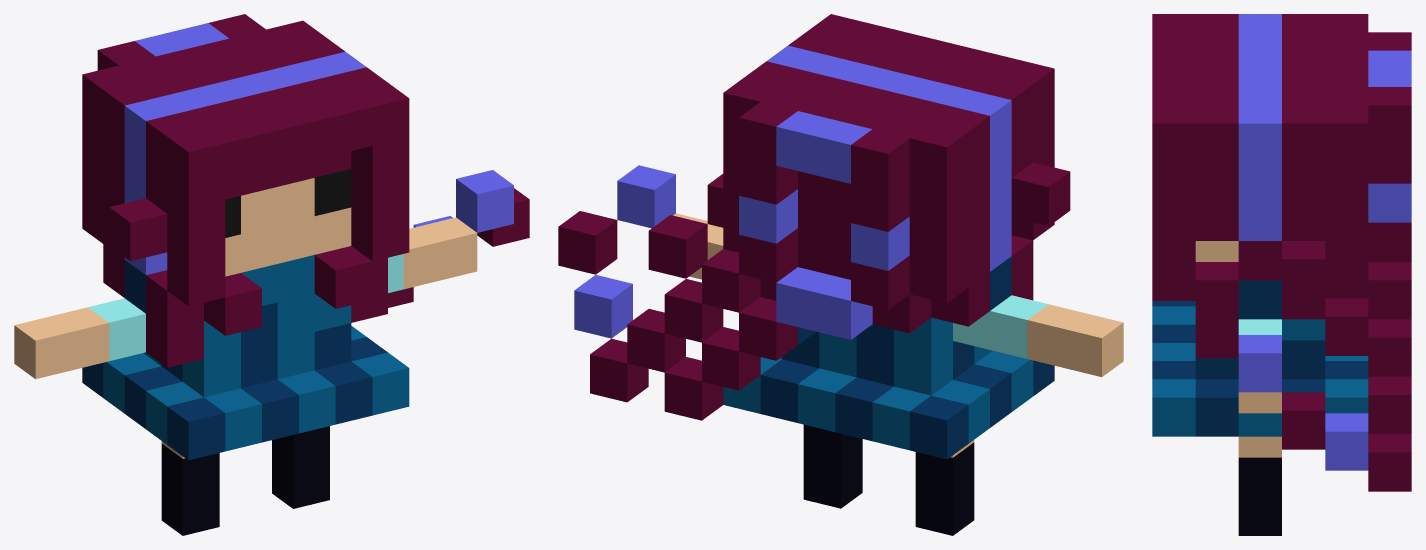
File: fem_char_rig.fbx
The picture shows the model from 3 angles, left to right: view 1: azimuth 30°, elevation 25°; view 2: azimuth 150°, elevation 25°; view 3: azimuth 270°, elevation 25°; orthographic projection.
Parts seen in each view (by area): view 1: fem_char; view 2: fem_char; view 3: fem_char.
Boxes of the visible parts, left/top/right/bottom form: fem_char: left=14, top=14, right=529, bottom=535; fem_char: left=558, top=14, right=1123, bottom=535; fem_char: left=1152, top=14, right=1411, bottom=535.
Size of the model in its own units: 11.88 by 9.34 by 5.09.
1 material, 1 textured.
